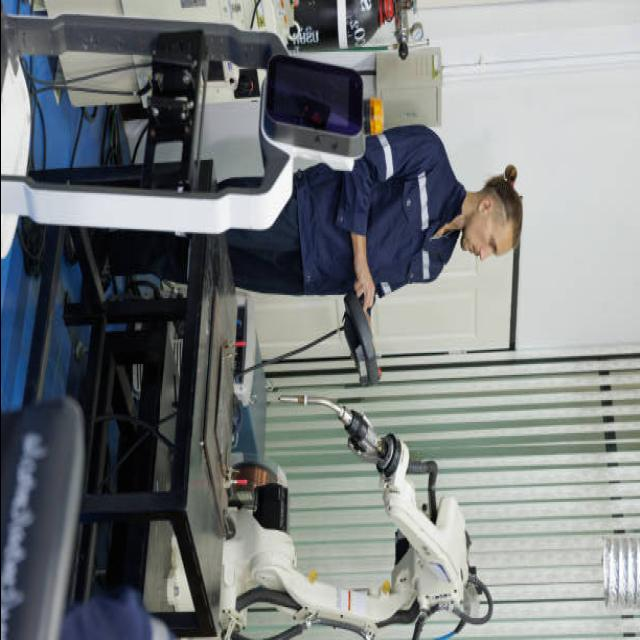Robotic-arm: (217, 394, 498, 640)
